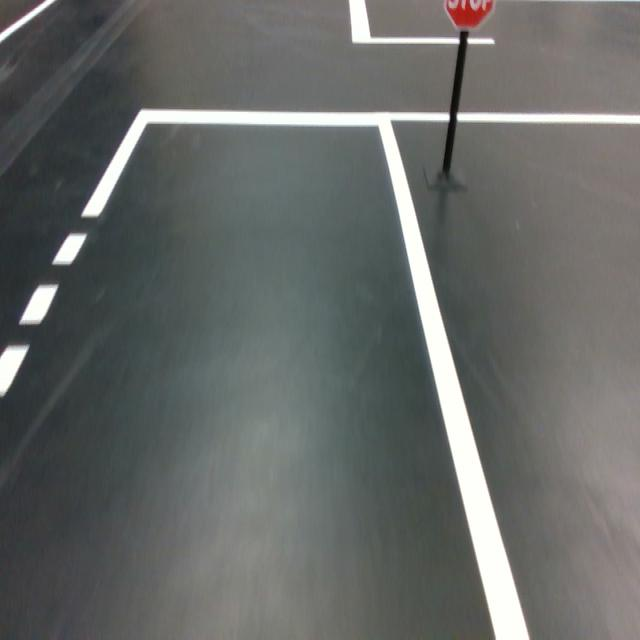stop-sign: (442, 0, 497, 33)
